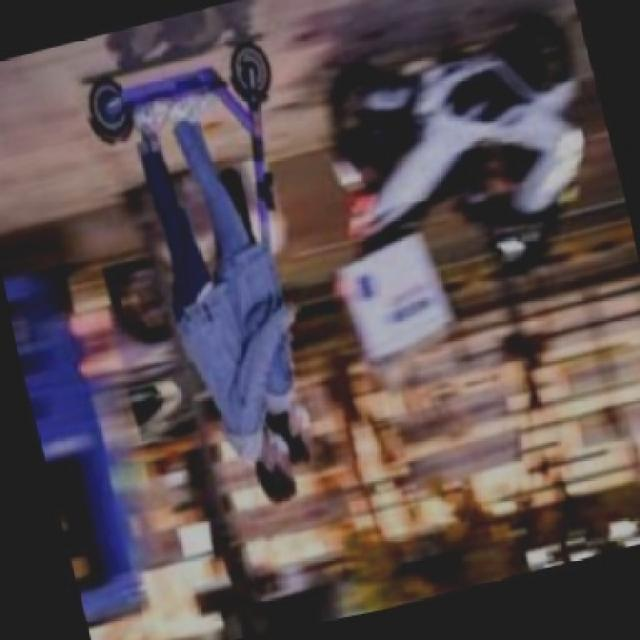bare_head: (246, 429, 300, 499), (263, 410, 320, 466)
human: (133, 100, 298, 502), (171, 95, 325, 470)
kickboard: (93, 40, 277, 142)
